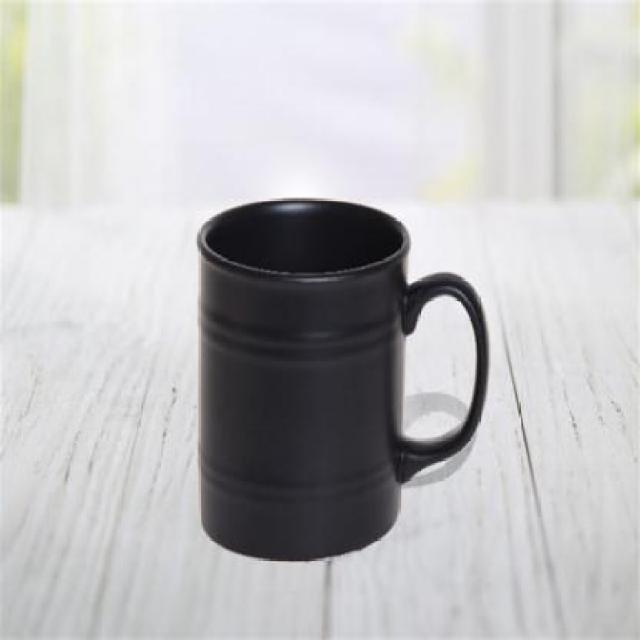taza: (194, 195, 492, 563)
